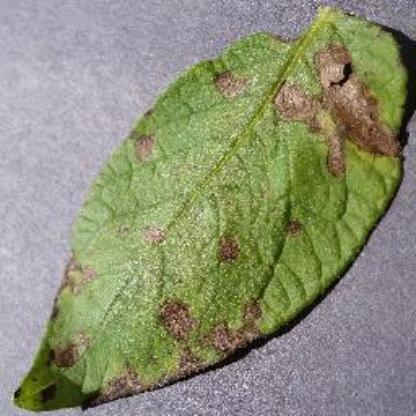Early-Blight: (18, 4, 406, 410)
